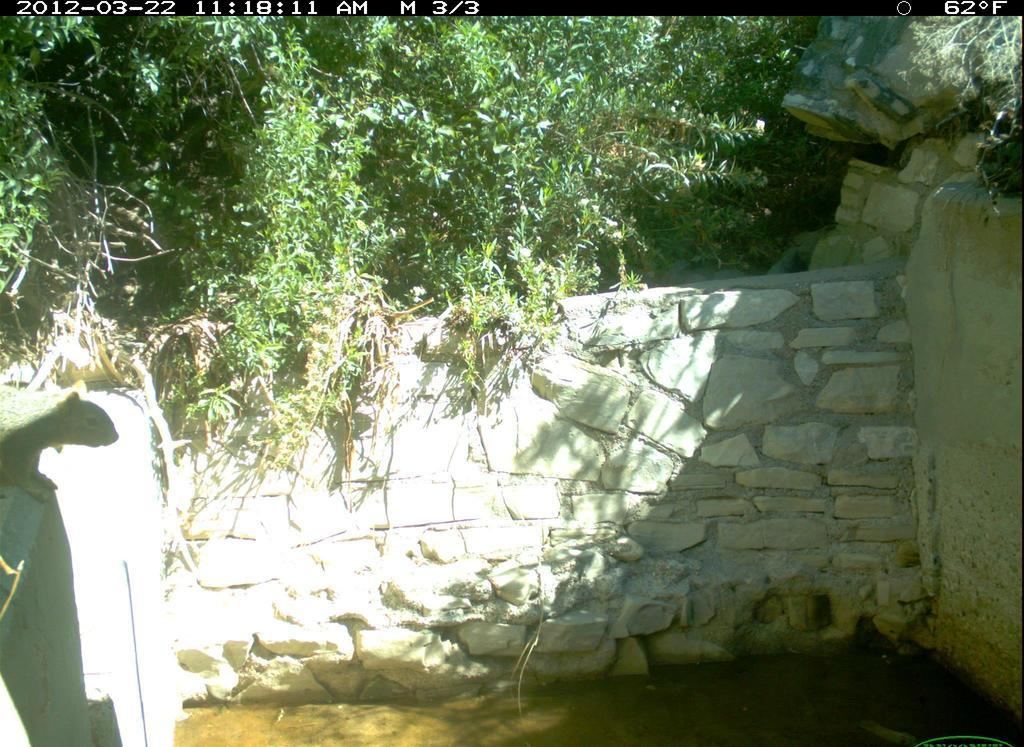squirrel: (2, 372, 132, 514)
